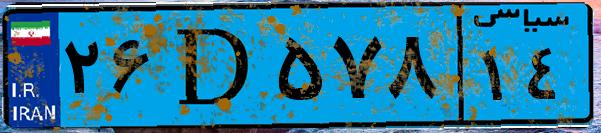1: (475, 38, 525, 113)
2: (57, 26, 110, 100)
4: (525, 38, 570, 115)
5: (270, 28, 330, 110)
6: (110, 28, 158, 98)
7: (330, 28, 385, 110)
8: (385, 28, 445, 110)
D: (158, 12, 270, 120)
